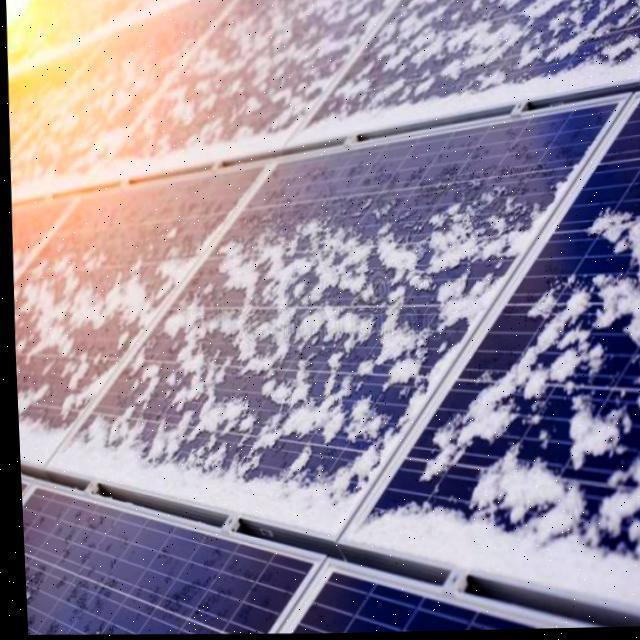Anomaly Solar Panel: (40, 98, 630, 542), (338, 96, 640, 621), (9, 159, 278, 466), (74, 0, 397, 185), (7, 0, 233, 200), (258, 0, 542, 74)
Snow: (10, 184, 640, 622), (7, 0, 640, 201)
